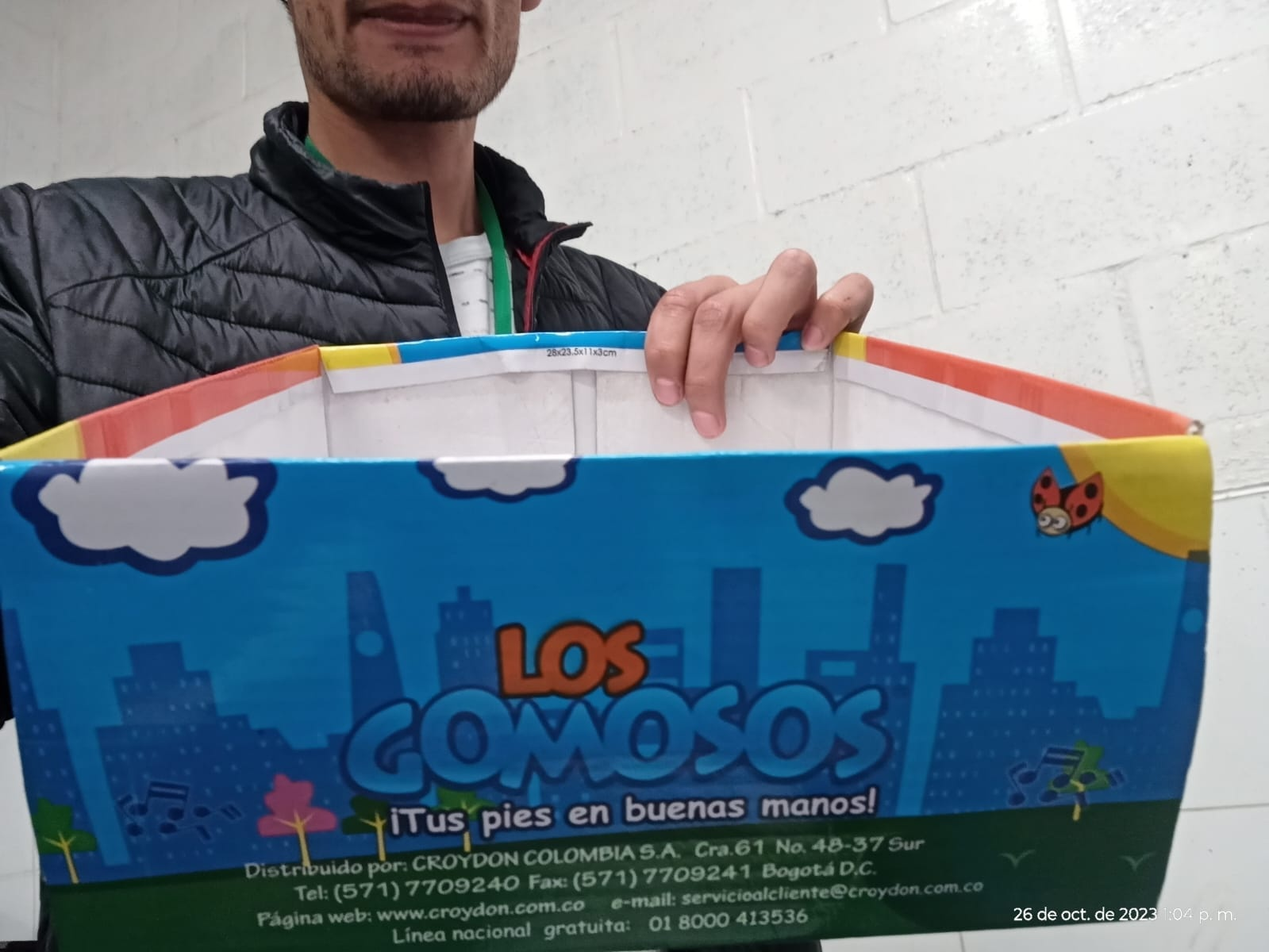Carton: (0, 328, 1211, 952)
